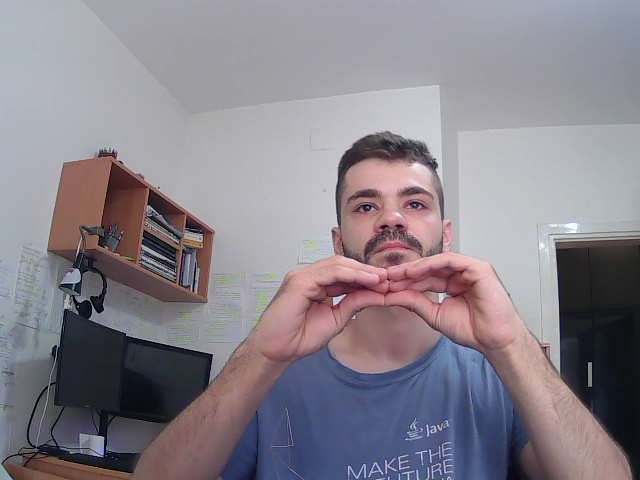b: (256, 248, 536, 363)
